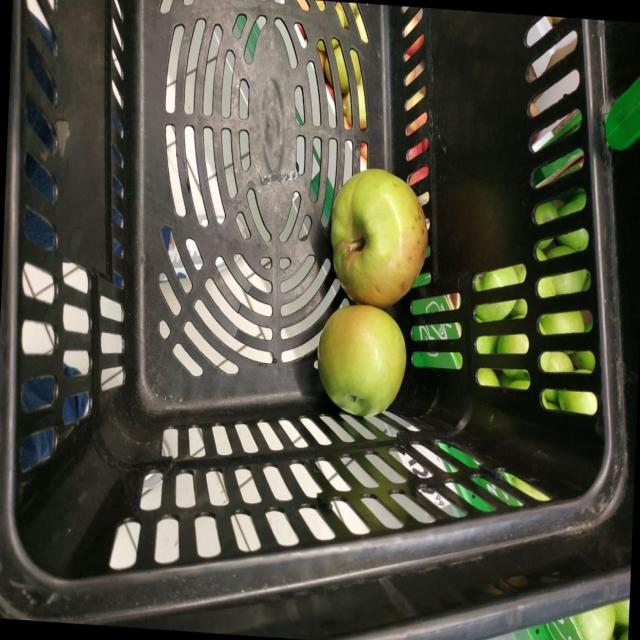apple: (170, 207, 543, 623), (179, 82, 513, 282)
